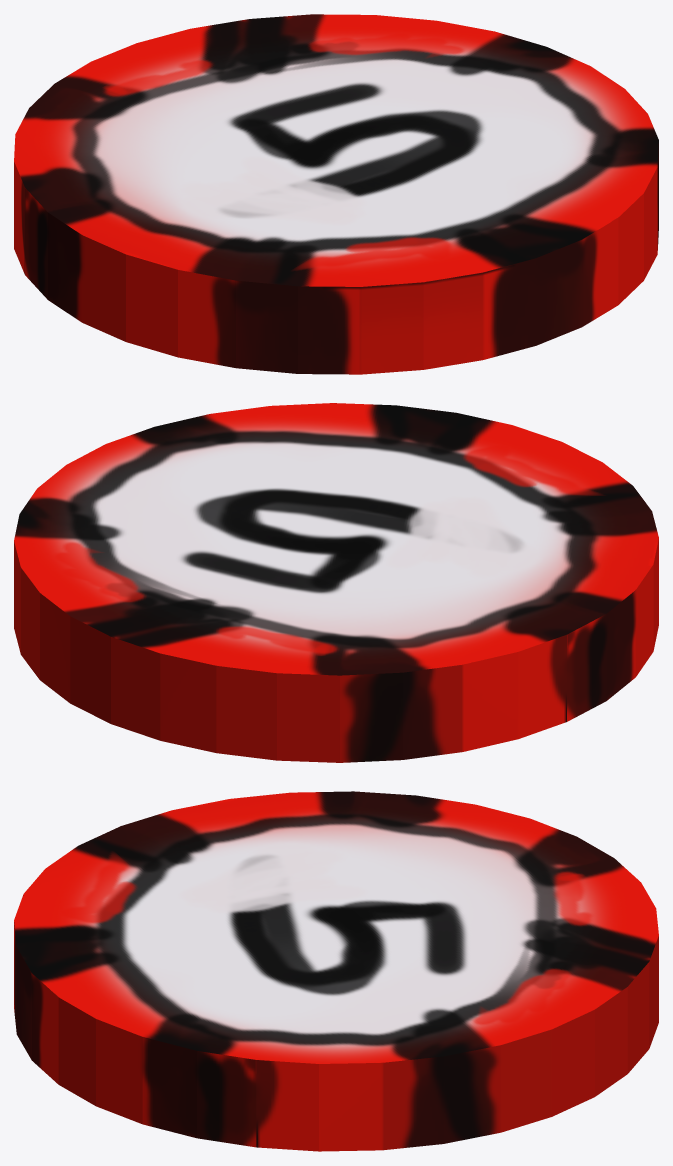
Rendered from coins.dae.
The picture shows the model from 3 angles, top to bottom: view 1: azimuth 30°, elevation 25°; view 2: azimuth 150°, elevation 25°; view 3: azimuth 270°, elevation 25°; orthographic projection.
Parts seen in each view (by area): view 1: Coin_040; view 2: Coin_040; view 3: Coin_040.
Part boxes in pixels (left/top/right/bottom): Coin_040: left=14, top=14, right=658, bottom=374; Coin_040: left=14, top=403, right=658, bottom=762; Coin_040: left=14, top=791, right=658, bottom=1151.
Bounding box in the file's own units: 2.22 × 2.22 × 0.3329.
1 material, 1 textured.
